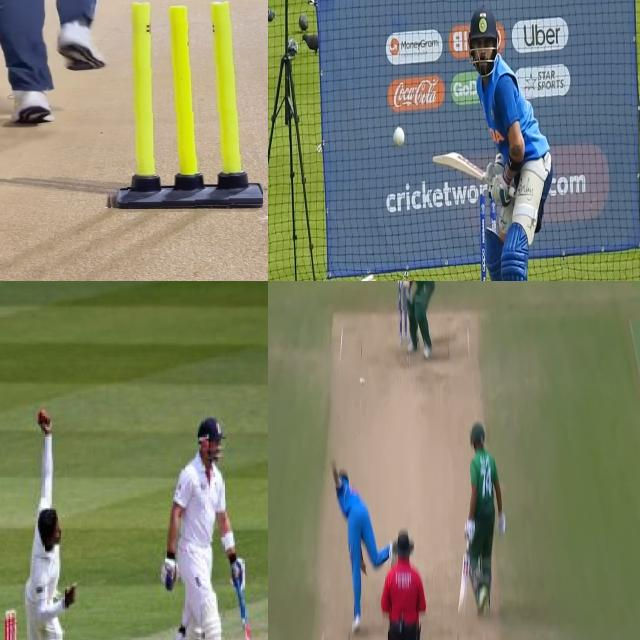Cricket ball: (391, 123, 407, 153), (34, 403, 53, 427), (358, 376, 366, 386)
Stumps: (106, 1, 263, 209), (398, 288, 411, 344)
